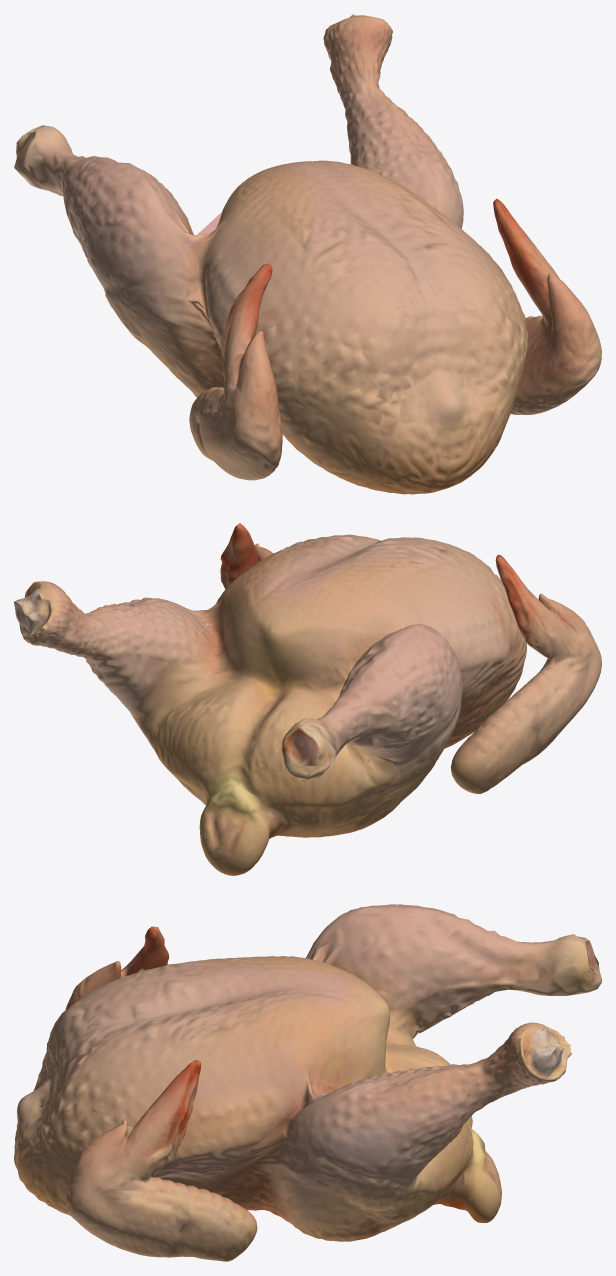
Rendered from chicken-parts.glb.
The picture shows the model from 3 angles, top to bottom: view 1: azimuth 30°, elevation 25°; view 2: azimuth 150°, elevation 25°; view 3: azimuth 270°, elevation 25°; orthographic projection. The views are drawn at different scales.
Visible parts, largest first — view 1: torso, legL, neck, legR, wingL, wingR; view 2: torso, legL, wingL, legR, tail, wingR; view 3: torso, legL, legR, wingR, neck, tail, wingL.
Part boxes in pixels (bbox=[...]): torso: bbox=[124, 160, 528, 493]; legL: bbox=[14, 125, 275, 326]; neck: bbox=[330, 358, 522, 494]; legR: bbox=[323, 14, 463, 205]; wingL: bbox=[189, 263, 282, 480]; wingR: bbox=[493, 198, 601, 415]; torso: bbox=[122, 534, 526, 838]; legL: bbox=[281, 580, 462, 779]; wingL: bbox=[450, 554, 601, 793]; legR: bbox=[14, 581, 210, 702]; tail: bbox=[191, 750, 282, 875]; wingR: bbox=[220, 523, 272, 589]; torso: bbox=[27, 956, 465, 1241]; legL: bbox=[286, 904, 601, 1015]; legR: bbox=[317, 1022, 571, 1196]; wingR: bbox=[66, 1060, 257, 1261]; neck: bbox=[14, 1067, 69, 1215]; tail: bbox=[465, 1116, 501, 1222]; wingL: bbox=[65, 926, 169, 1010].
Size of the model in its own units: 0.7439 by 0.5219 by 0.9999.
Materials: 2 (1 with a texture image).
